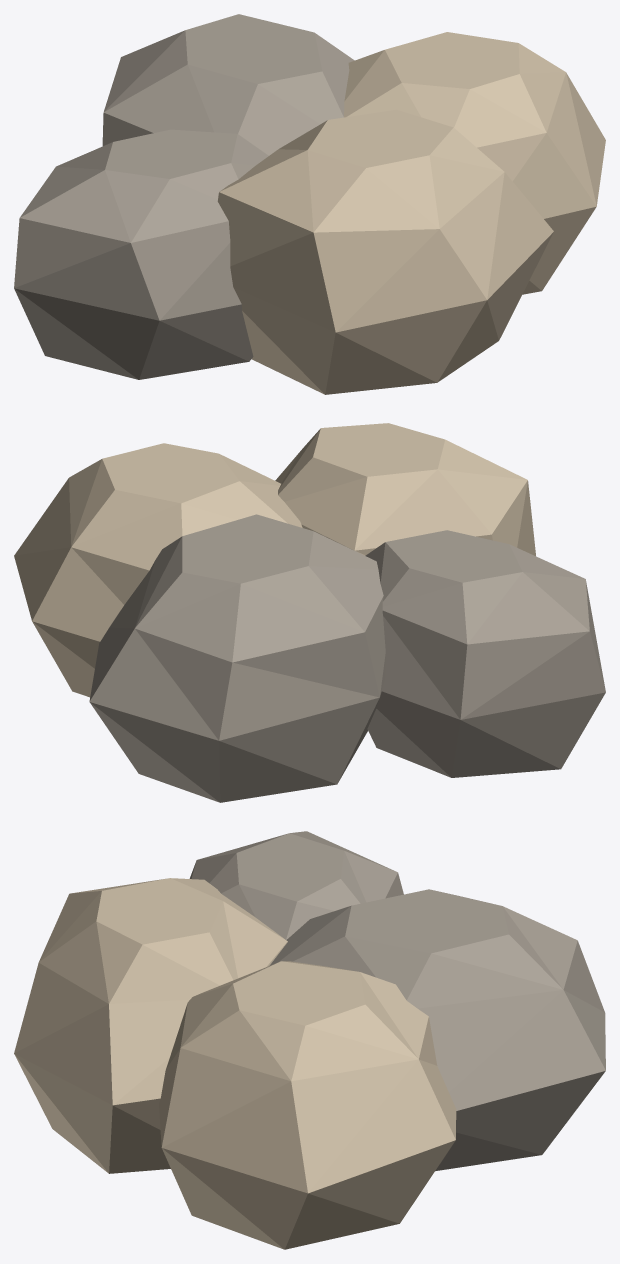
The model's file is island_rock_group.fbx.
3 views of the same model, one above another, from view 1: azimuth 30°, elevation 25°; view 2: azimuth 150°, elevation 25°; view 3: azimuth 270°, elevation 25° (orthographic). The views are drawn at different scales.
Visible parts, largest first — view 1: island_rock_group; view 2: island_rock_group; view 3: island_rock_group.
Boxes of the visible parts, x1,y1,x2,y2 form: island_rock_group: [14, 14, 605, 394]; island_rock_group: [14, 423, 605, 802]; island_rock_group: [14, 831, 605, 1249].
Size of the model in its own units: 6 by 2 by 5.
